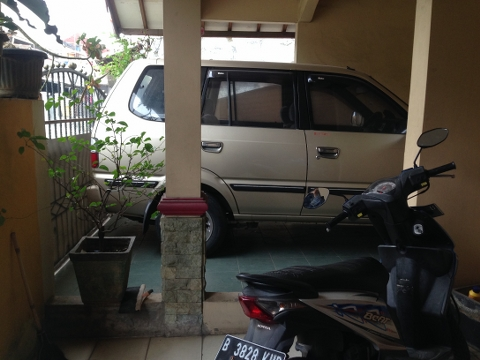mobil: (86, 58, 409, 249)
